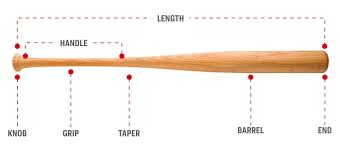baseball bat: (11, 47, 331, 74)
